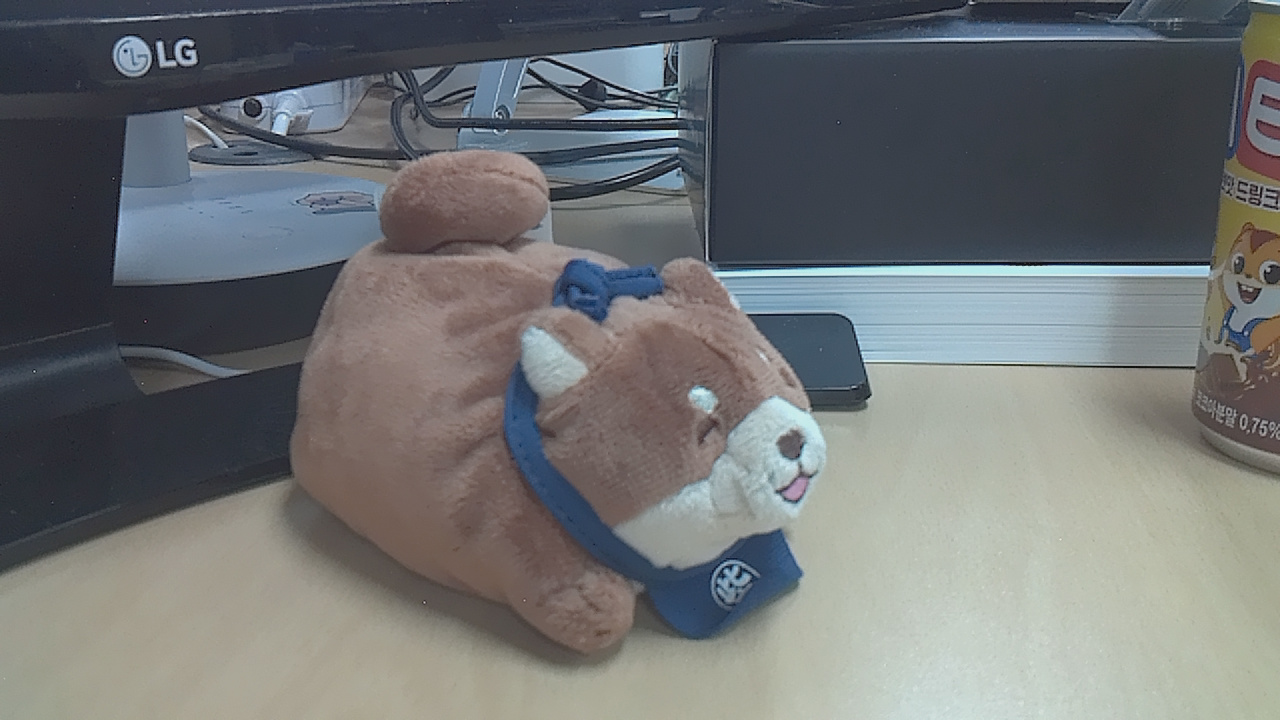cuteDog: (225, 153, 818, 703)
